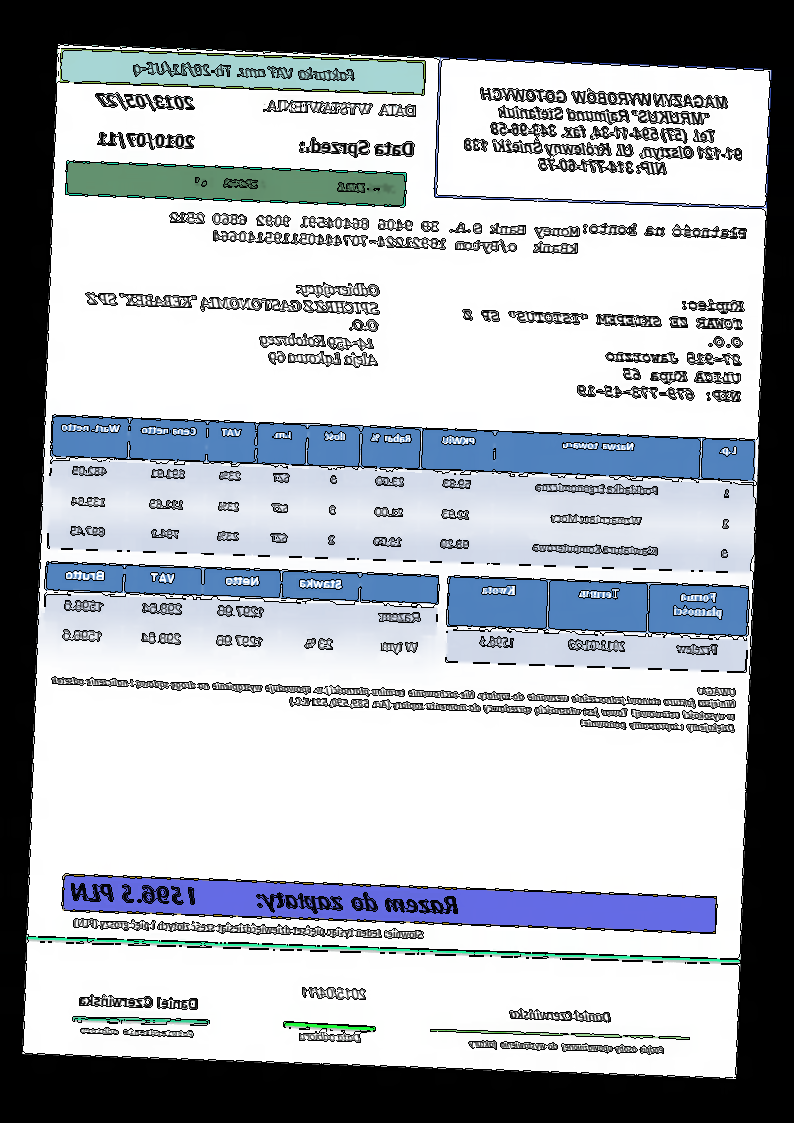Table: (42, 413, 758, 578), (42, 559, 440, 670), (444, 574, 750, 674)
TextBox: (49, 661, 741, 739), (457, 290, 747, 405), (82, 271, 383, 370), (456, 84, 749, 183), (167, 209, 581, 256), (67, 877, 465, 920), (71, 913, 427, 942), (129, 58, 359, 87), (190, 171, 399, 197), (466, 1036, 667, 1059), (260, 94, 419, 122), (579, 218, 752, 242), (297, 134, 417, 160), (77, 991, 202, 1014), (93, 89, 202, 114), (94, 128, 199, 153), (77, 1023, 199, 1040), (508, 1005, 615, 1023), (301, 984, 370, 1001), (296, 1029, 363, 1043)
